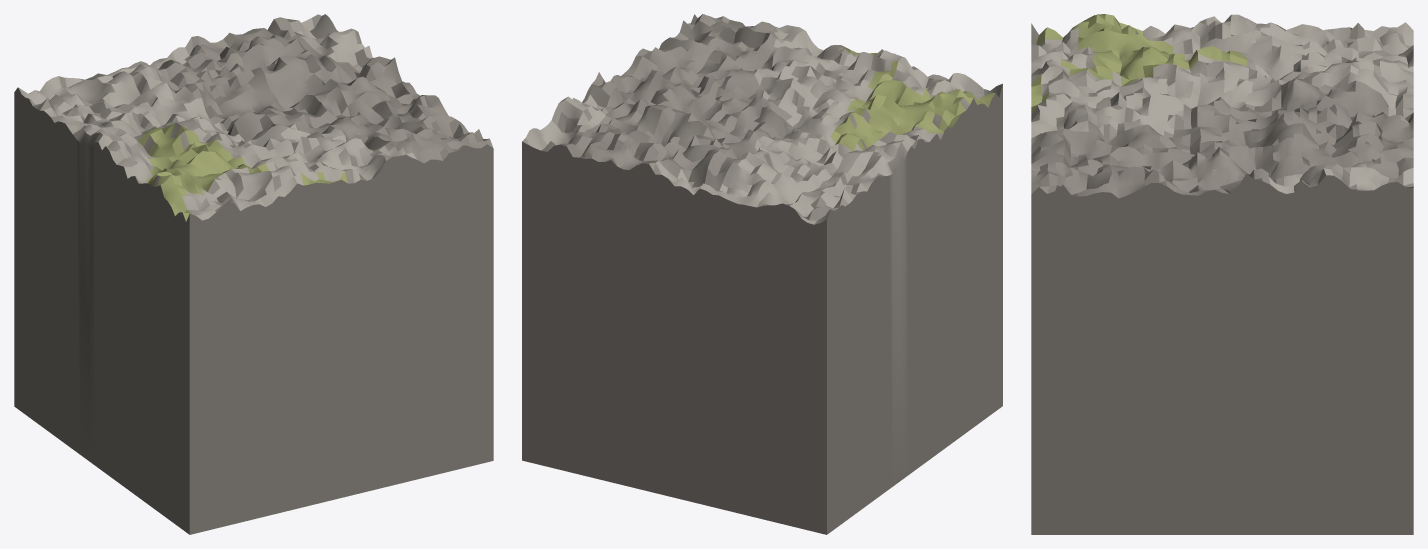
Rendered from kit-cliff-mid.glb.
The picture shows the model from 3 angles, left to right: view 1: azimuth 30°, elevation 25°; view 2: azimuth 150°, elevation 25°; view 3: azimuth 270°, elevation 25°; orthographic projection. The views are drawn at different scales.
Visible parts, largest first — view 1: cliff.001; view 2: cliff.001; view 3: cliff.001.
Boxes of the visible parts, box(x1,y1,x2,y2) form: cliff.001: box(14, 14, 493, 534); cliff.001: box(522, 14, 1002, 534); cliff.001: box(1031, 14, 1413, 534).
Size of the model in its own units: 1 by 1.05 by 1.
